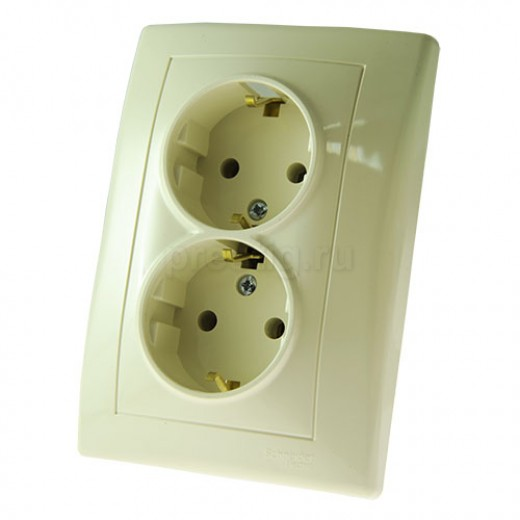raccoon: (134, 235, 292, 403), (160, 79, 313, 230)
